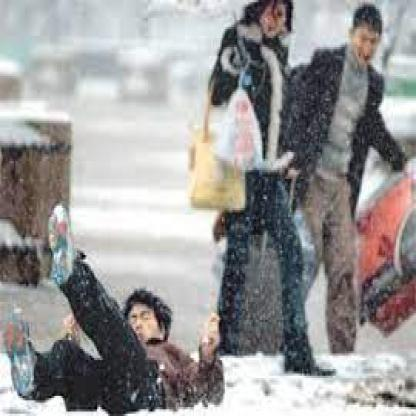Fall_Down: (3, 203, 226, 414)
